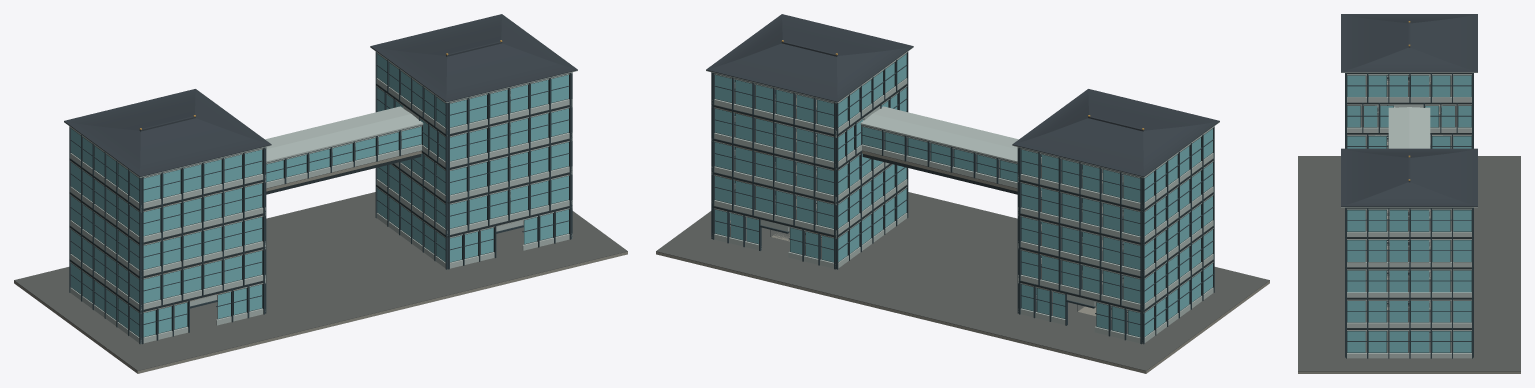
3 views of the same model, side by side, from view 1: azimuth 30°, elevation 25°; view 2: azimuth 150°, elevation 25°; view 3: azimuth 270°, elevation 25° (orthographic). The views are drawn at different scales.
Visible parts, largest first — view 1: 金属框、密封环与独立幕墙玻璃 (×21), 石铺面与混凝土承板 (×4), 连续瓦檐与金属承板、钢梁 (×2), 双端入楼锚梁与轻薄连续连廊顶; view 2: 金属框、密封环与独立幕墙玻璃 (×21), 石铺面与混凝土承板 (×4), 连续瓦檐与金属承板、钢梁 (×2), 双端入楼锚梁与轻薄连续连廊顶; view 3: 金属框、密封环与独立幕墙玻璃 (×8), 石铺面与混凝土承板 (×8), 连续瓦檐与金属承板、钢梁 (×2), 双端入楼锚梁与轻薄连续连廊顶.
Part boxes in pixels (bbox=[...]): 金属框、密封环与独立幕墙玻璃 (×21): bbox=[69, 52, 571, 344]; 石铺面与混凝土承板 (×4): bbox=[14, 136, 627, 373]; 连续瓦檐与金属承板、钢梁 (×2): bbox=[64, 14, 577, 177]; 双端入楼锚梁与轻薄连续连廊顶: bbox=[265, 106, 423, 194]; 金属框、密封环与独立幕墙玻璃 (×21): bbox=[712, 52, 1214, 344]; 石铺面与混凝土承板 (×4): bbox=[656, 136, 1269, 373]; 连续瓦檐与金属承板、钢梁 (×2): bbox=[706, 14, 1219, 177]; 双端入楼锚梁与轻薄连续连廊顶: bbox=[860, 106, 1018, 194]; 金属框、密封环与独立幕墙玻璃 (×8): bbox=[1346, 73, 1472, 358]; 石铺面与混凝土承板 (×8): bbox=[1298, 75, 1520, 373]; 连续瓦檐与金属承板、钢梁 (×2): bbox=[1341, 14, 1477, 207]; 双端入楼锚梁与轻薄连续连廊顶: bbox=[1388, 107, 1430, 148].
Bounding box in the file's own units: 64 × 23 × 28.
Materials: 13 (13 with a texture image).
